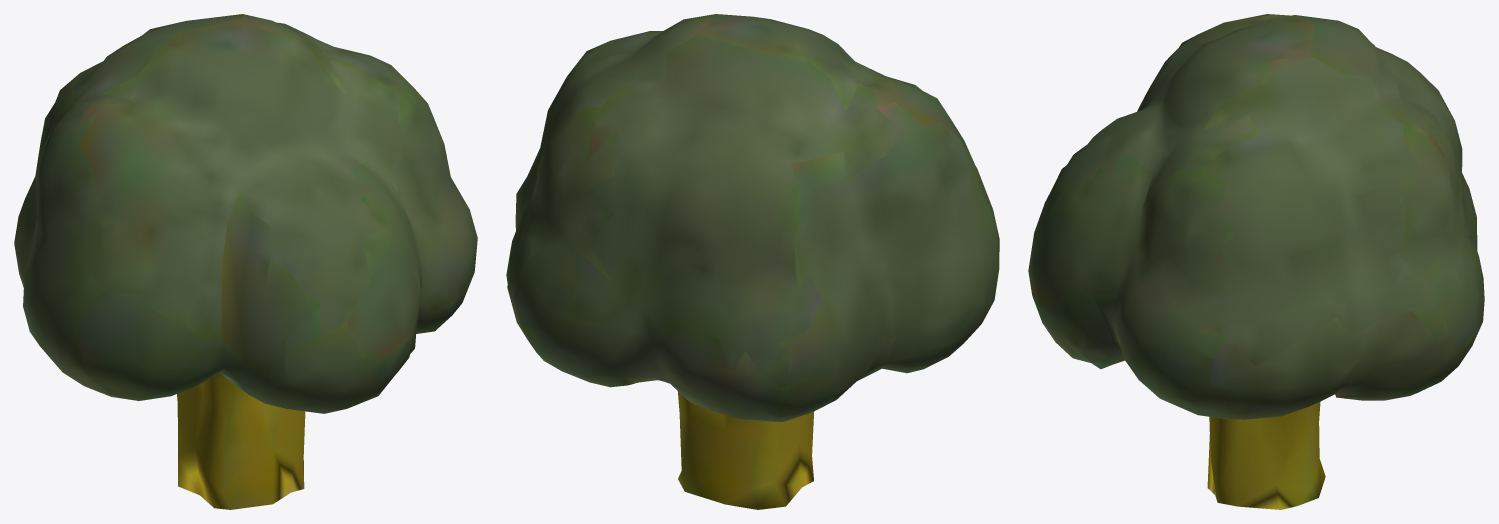
The model's file is brocolis.glb.
3 views of the same model, side by side, from view 1: azimuth 30°, elevation 25°; view 2: azimuth 150°, elevation 25°; view 3: azimuth 270°, elevation 25° (orthographic). The views are drawn at different scales.
Parts seen in each view (by area): view 1: brocolis; view 2: brocolis; view 3: brocolis.
Boxes of the visible parts, bbox=[...] form: brocolis: bbox=[14, 14, 477, 509]; brocolis: bbox=[506, 14, 999, 509]; brocolis: bbox=[1028, 14, 1484, 509].
Bounding box in the file's own units: 0.1295 × 0.131 × 0.1221.
1 material, 1 textured.
